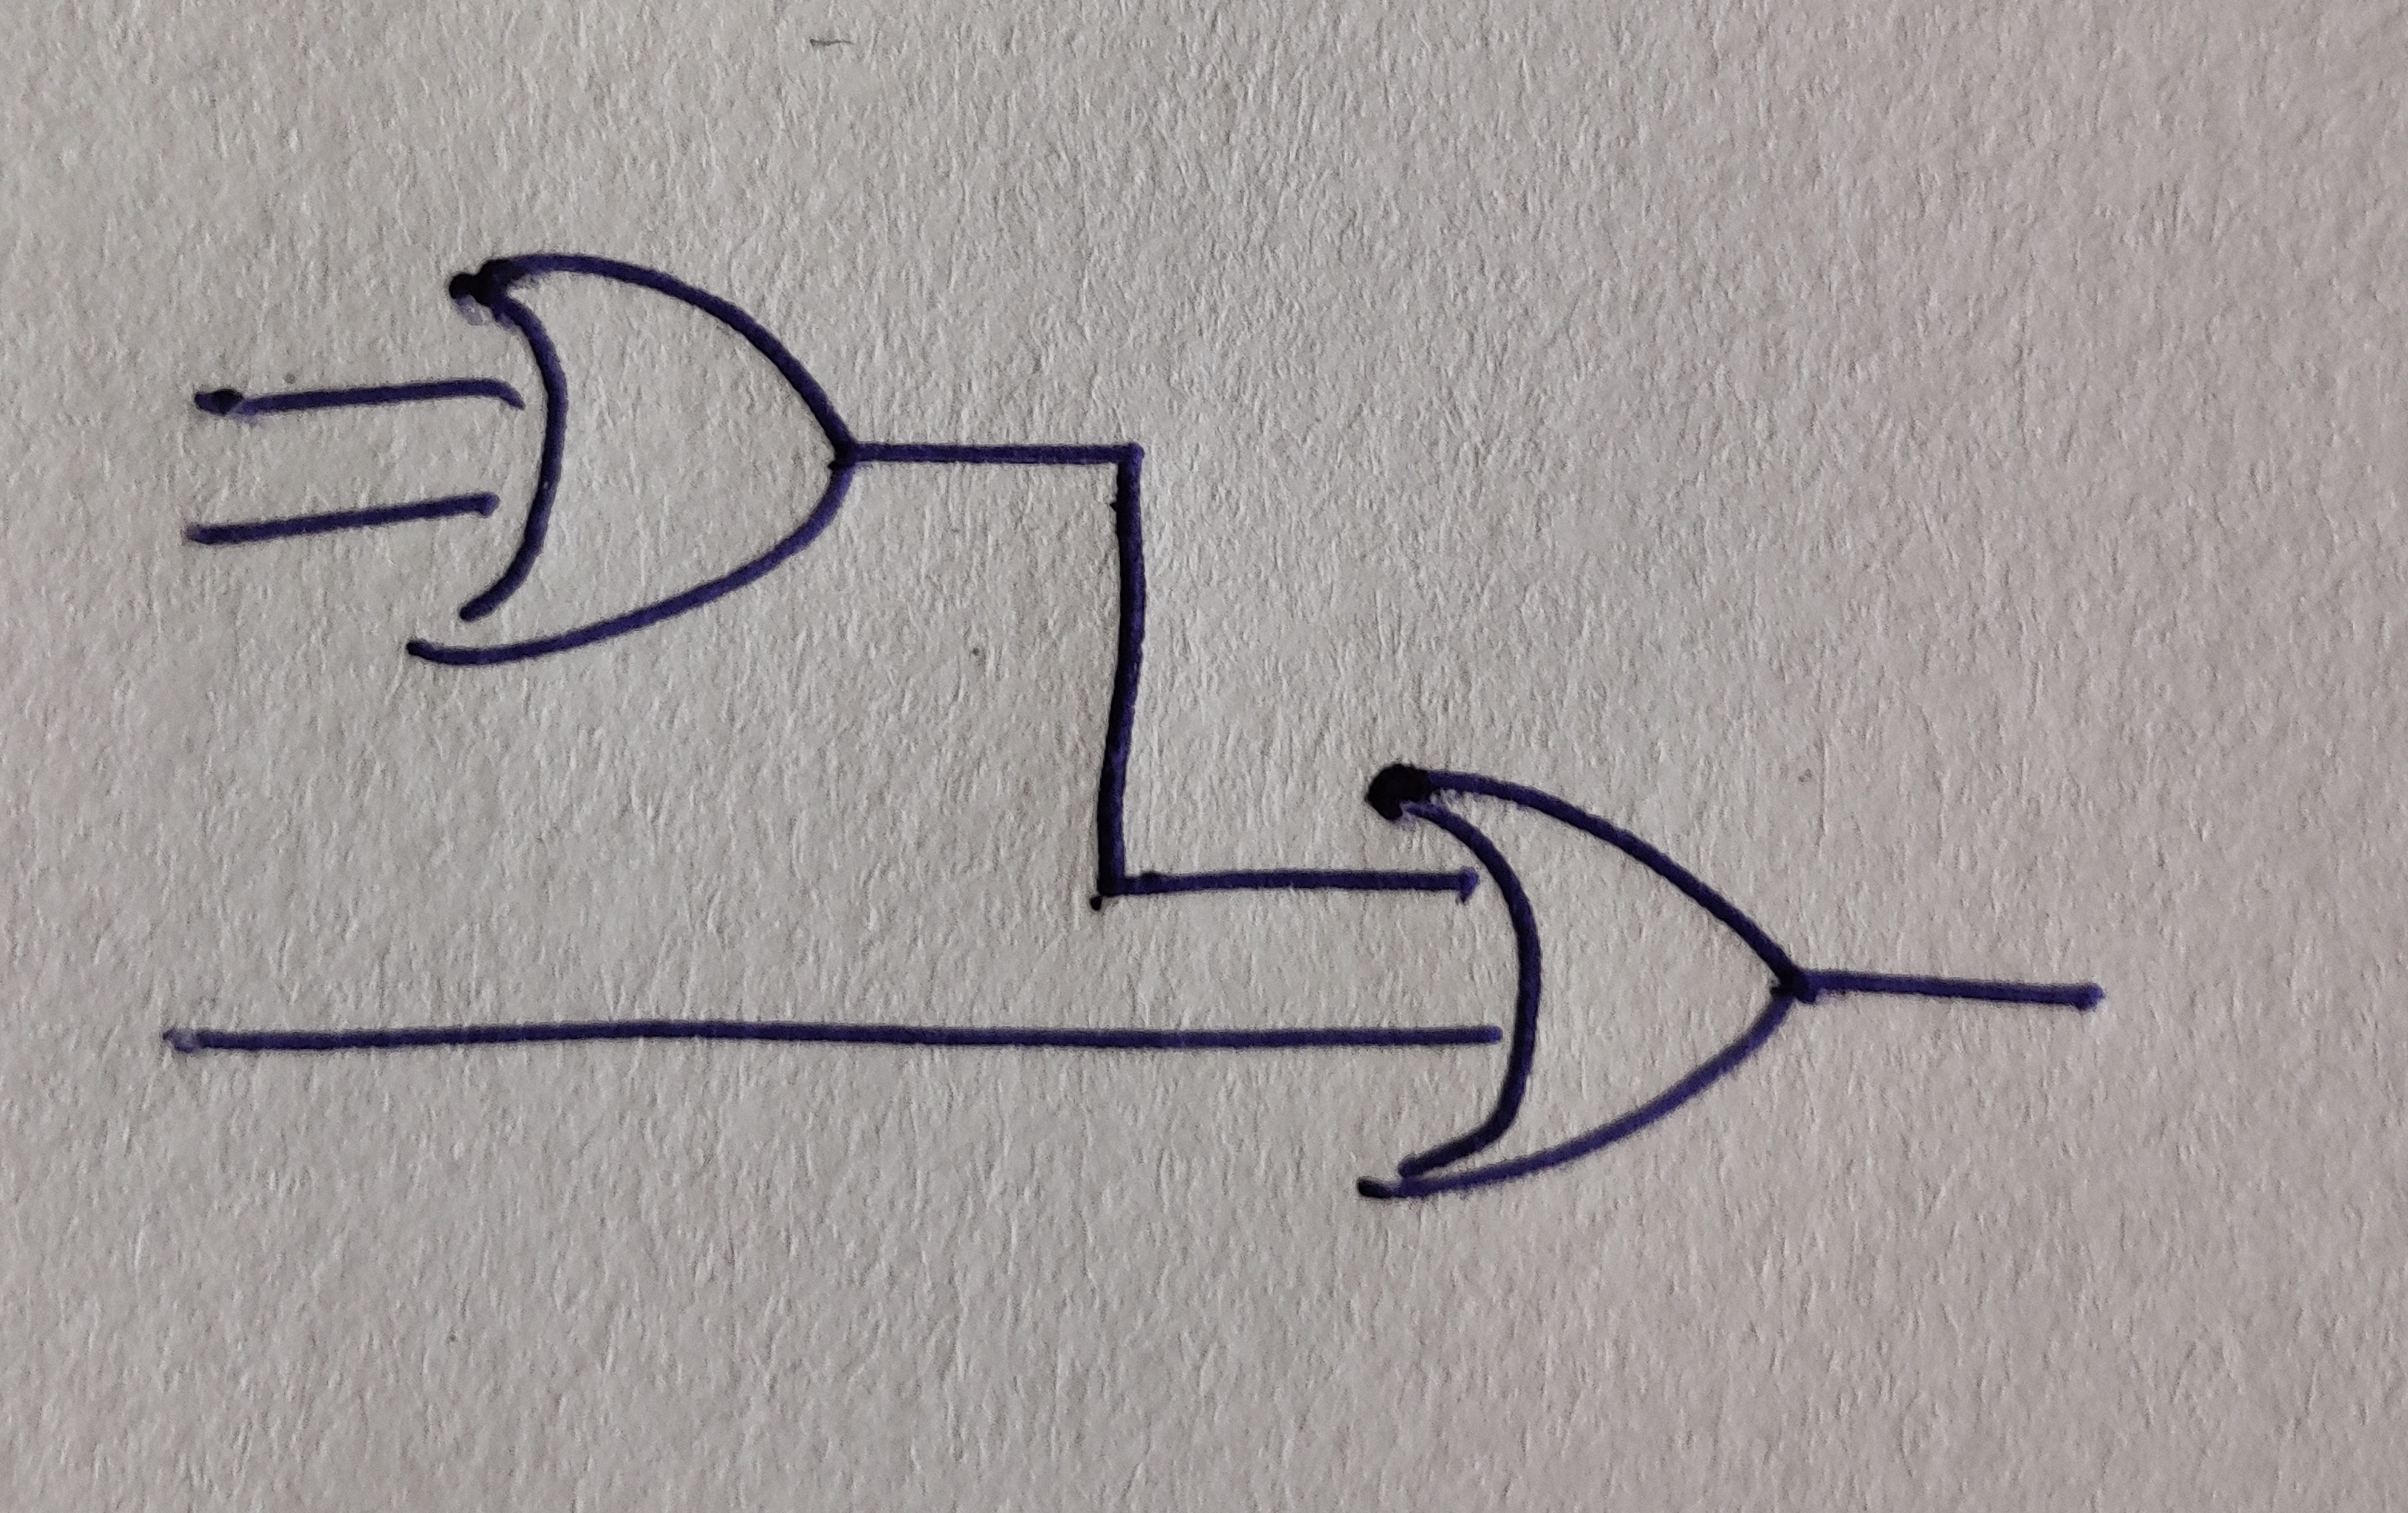or: (1358, 765, 1794, 1203), (408, 256, 856, 666)
